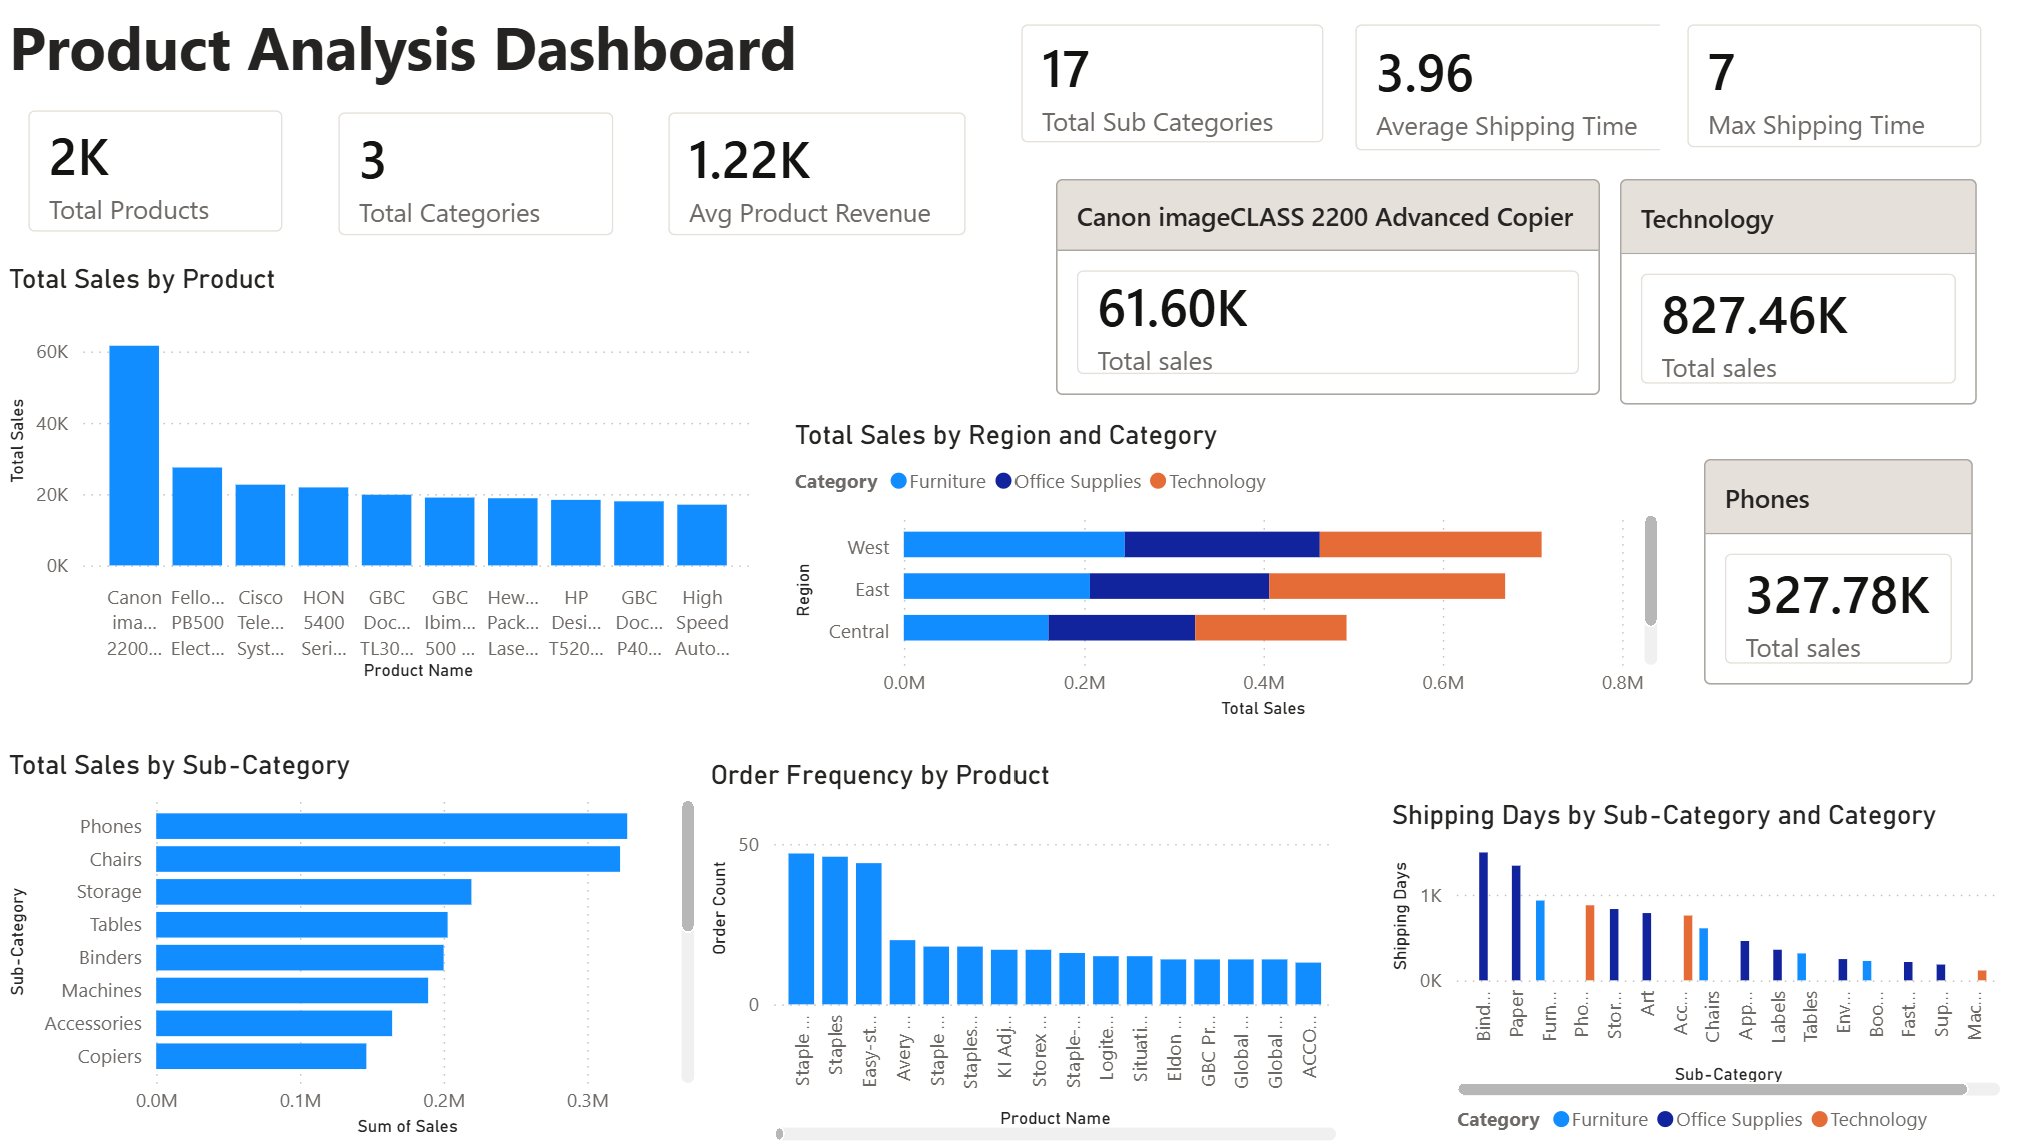

Layout of this report page (visuals, bound fields, positions):
{"tool":"powerbi","page":{"name":"Product Analysis Dashboard","canvas":[1280,720],"ordinal":2},"visuals":[{"type":"textbox","box":[10,0,546.7,61.7],"z":0},{"type":"cardVisual","fields":{"Rows":["Sheet1.Product Name"],"Data":["Sum(Sheet1.Sales)"]},"box":[663.3,88.3,350,185],"z":1000},{"type":"cardVisual","fields":{"Rows":["Sheet1.Category"],"Data":["Sum(Sheet1.Sales)"]},"box":[1016.7,88.3,233.3,191.7],"z":2000},{"type":"cardVisual","fields":{"Rows":["Sheet1.Sub-Category"],"Data":["Sum(Sheet1.Sales)"]},"box":[1068.3,263.3,178.3,191.7],"z":3000},{"type":"clusteredColumnChart","title":"Total Sales by Product","fields":{"Category":["Sheet1.Product Name"],"Y":["Sum(Sheet1.Sales)"]},"box":[10,166.7,475,265],"z":4000},{"type":"cardVisual","fields":{"Data":["Sheet1.Total Products"]},"box":[10,53.3,193.3,110],"z":5000},{"type":"cardVisual","fields":{"Data":["Sheet1.Total Categories"]},"box":[203.3,55,206.7,111.7],"z":6000},{"type":"cardVisual","fields":{"Data":["Sheet1.Total Sub Categories"]},"box":[630,0,223.3,108.3],"z":7000},{"type":"cardVisual","fields":{"Data":["Sheet1.Average Product Revenue"]},"box":[410,55,220,111.7],"z":8000},{"type":"clusteredBarChart","title":"Total Sales by Sub-Category","fields":{"Category":["Sheet1.Sub-Category"],"Y":["Sum(Sheet1.Sales)"]},"box":[10,470,438.3,246.7],"z":9000},{"type":"cardVisual","fields":{"Data":["Sheet1.Average Shipping Time"]},"box":[838.3,0,233.3,113.3],"z":13000},{"type":"cardVisual","fields":{"Data":["Sheet1.Max Shipping Time"]},"box":[1046.7,0,218.3,111.7],"z":14000},{"type":"columnChart","title":"Order Frequency by Product","fields":{"Category":["Sheet1.Product Name"],"Y":["Sheet1.Order Count"]},"box":[448.3,476.7,400,243.3],"z":14001},{"type":"clusteredColumnChart","fields":{"Category":["Sheet1.Sub-Category"],"Y":["CountNonNull(Sheet1.Shipping Days)"],"Series":["Sheet1.Category"]},"box":[873.3,501.7,390,218.3],"z":14002},{"type":"barChart","fields":{"Category":["Sheet1.Region"],"Series":["Sheet1.Category"],"Y":["Sum(Sheet1.Sales)"]},"box":[501.7,263.3,548.3,191.7],"z":14003}]}

Visuals, with their boxes in screenshot pixels (x1, y1, x2, y2), scaled from the page's 1280x720 canvas onto the 2024x1144 screenshot:
textbox: BBox(16, 0, 880, 98)
cardVisual - Sheet1.Product Name x Sum(Sheet1.Sales): BBox(1049, 140, 1602, 434)
cardVisual - Sheet1.Category x Sum(Sheet1.Sales): BBox(1608, 140, 1977, 445)
cardVisual - Sheet1.Sub-Category x Sum(Sheet1.Sales): BBox(1689, 418, 1971, 723)
"Total Sales by Product" clusteredColumnChart: BBox(16, 265, 767, 686)
cardVisual - Sheet1.Total Products: BBox(16, 85, 321, 259)
cardVisual - Sheet1.Total Categories: BBox(321, 87, 648, 265)
cardVisual - Sheet1.Total Sub Categories: BBox(996, 0, 1349, 172)
cardVisual - Sheet1.Average Product Revenue: BBox(648, 87, 996, 265)
"Total Sales by Sub-Category" clusteredBarChart: BBox(16, 747, 709, 1139)
cardVisual - Sheet1.Average Shipping Time: BBox(1326, 0, 1694, 180)
cardVisual - Sheet1.Max Shipping Time: BBox(1655, 0, 2000, 177)
"Order Frequency by Product" columnChart: BBox(709, 757, 1341, 1143)
clusteredColumnChart - Sheet1.Sub-Category x CountNonNull(Sheet1.Shipping Days): BBox(1381, 797, 1998, 1143)
barChart - Sheet1.Region x Sheet1.Category: BBox(793, 418, 1660, 723)
